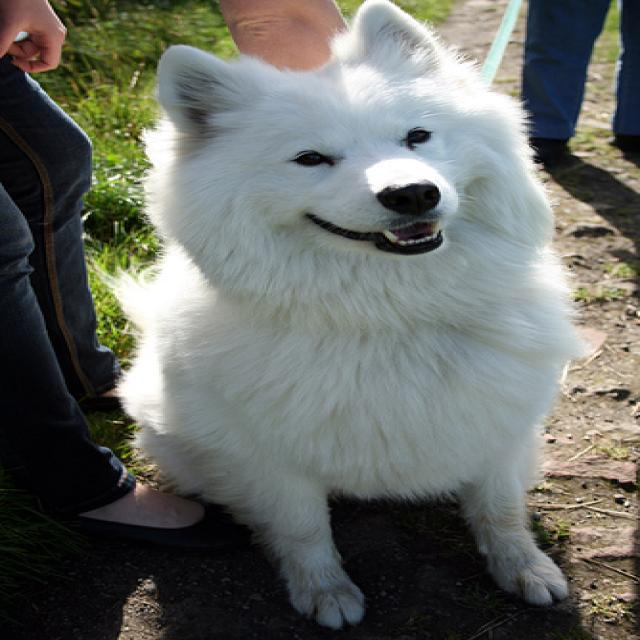dog: (151, 0, 492, 262)
